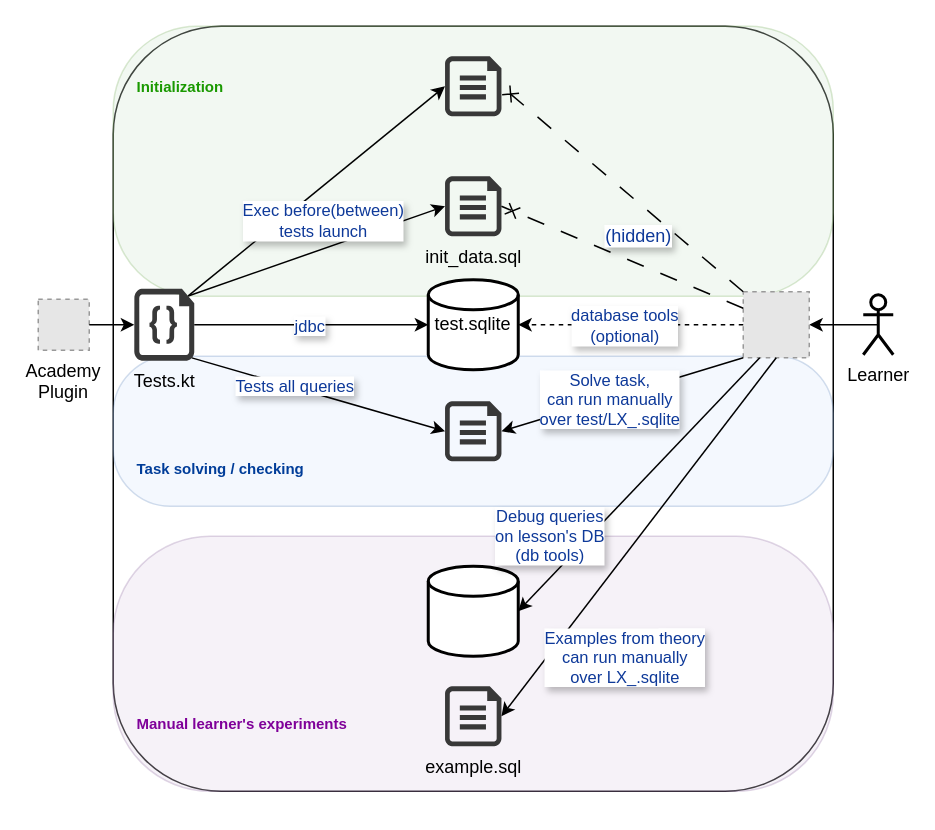
Some shapes in this 935 by 830 pixel diagram are drawn without their labels. Grey dashed boxes stand in for pictures. Each missing label, with the centre of its shape:
"init.sql" belongs at point 472,86.
"LX_.sqlite" belongs at point 472,610.
"task .sql" belongs at point 472,430.
